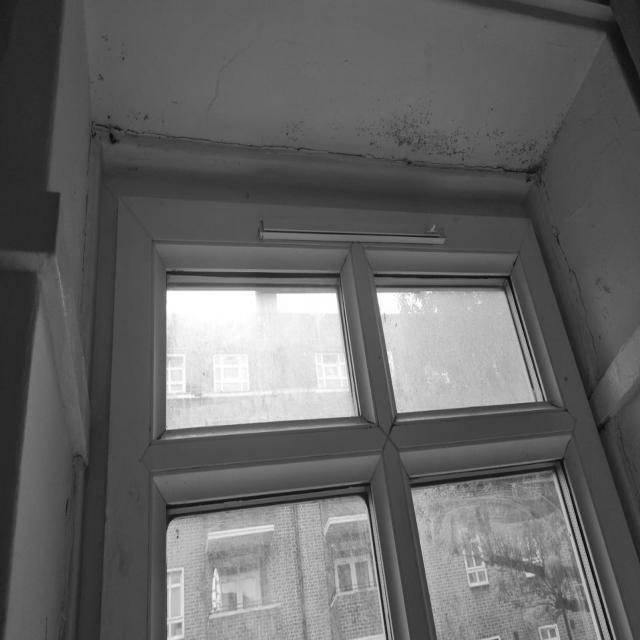pin holes: (116, 52, 132, 65), (104, 109, 118, 122)
stain marks: (346, 100, 560, 186), (565, 38, 639, 148), (270, 98, 320, 156), (581, 258, 626, 300), (414, 29, 443, 82), (123, 98, 157, 129), (93, 23, 116, 50), (91, 72, 113, 87)
